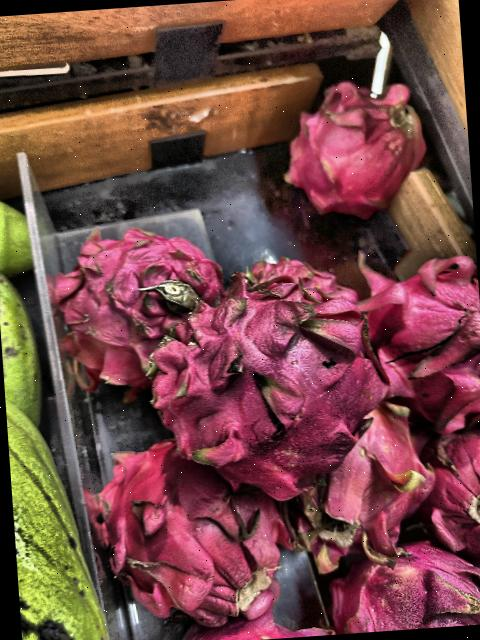buah-naga-matang: (127, 248, 394, 495), (77, 432, 286, 619), (48, 216, 220, 387), (350, 242, 480, 426), (300, 404, 436, 550), (280, 66, 417, 208), (314, 533, 480, 635), (407, 414, 480, 570)
